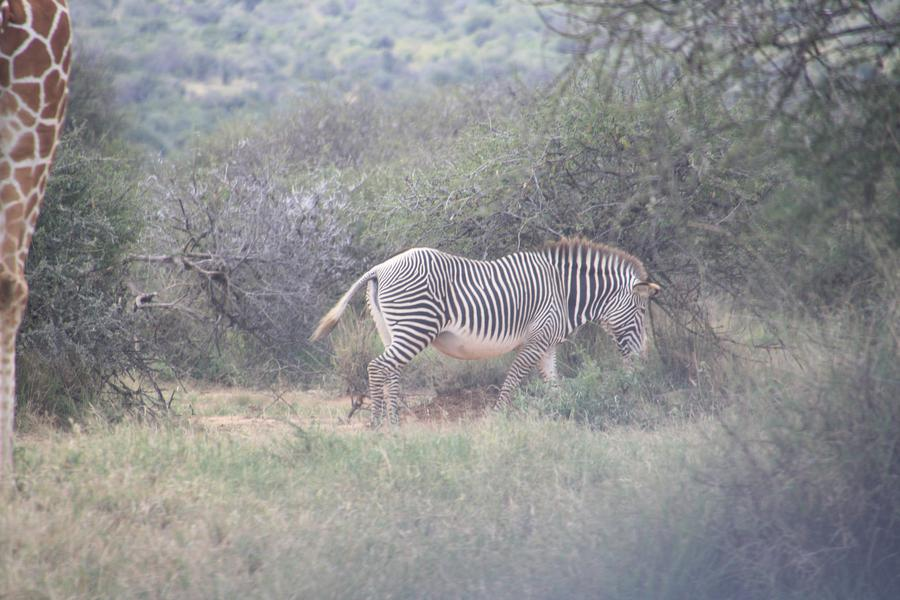zebra_grevys: (362, 227, 564, 347)
